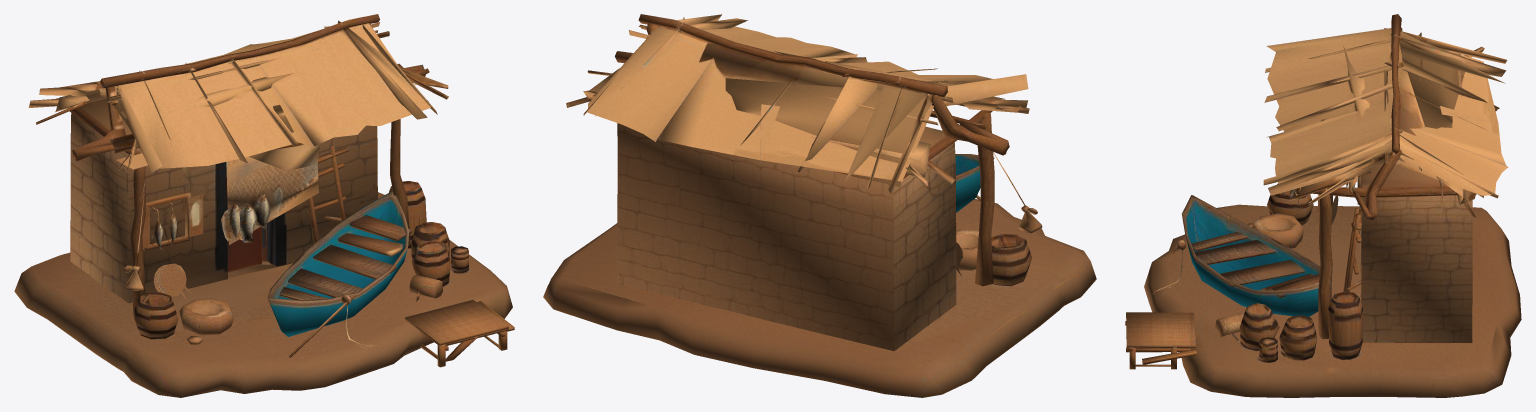
File: fisher.glb
3 views of the same model, side by side, from view 1: azimuth 30°, elevation 25°; view 2: azimuth 150°, elevation 25°; view 3: azimuth 270°, elevation 25° (orthographic). The views are drawn at different scales.
Bounding box in the file's own units: 0.9614 × 0.5718 × 0.8965.
1 material, 1 textured.
